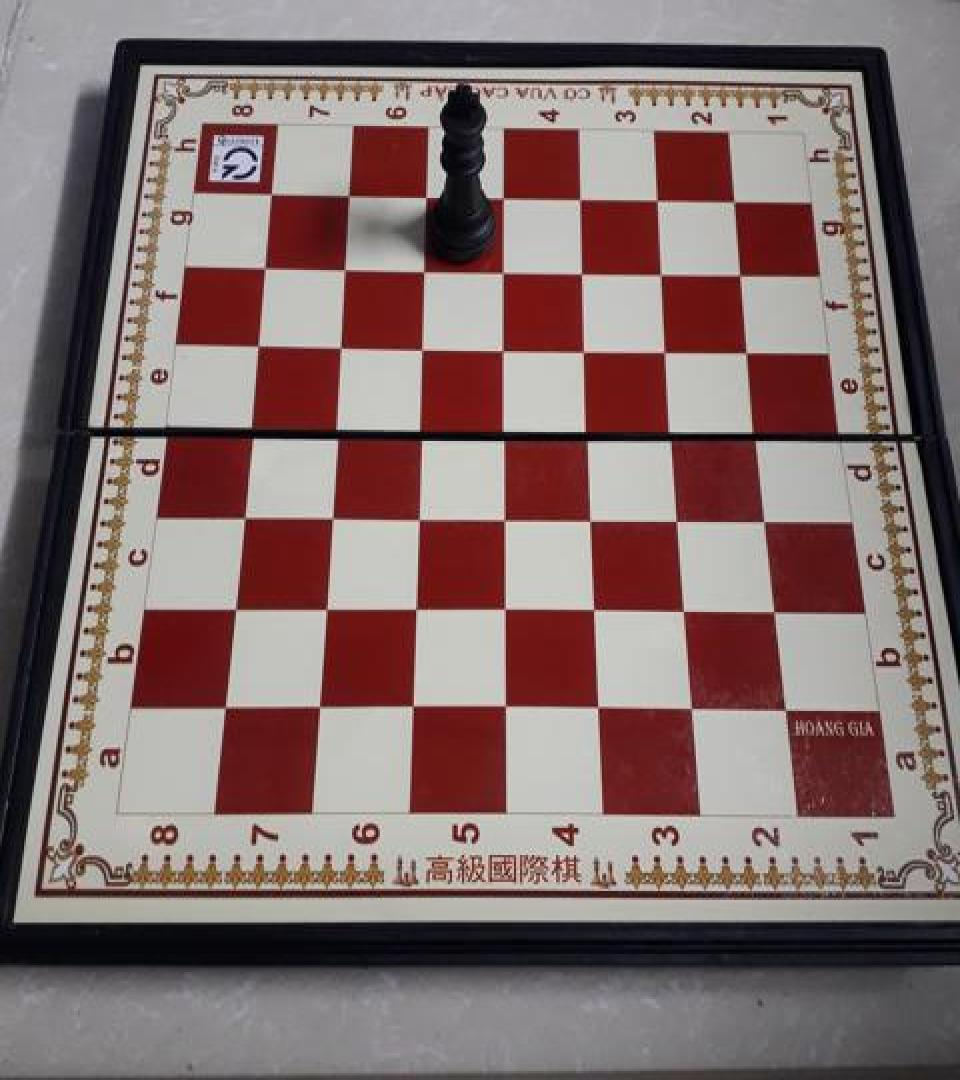xcorner: (209, 688, 241, 725), (305, 688, 337, 725), (399, 688, 431, 725), (493, 688, 525, 725), (586, 688, 618, 725), (678, 688, 710, 725), (770, 688, 802, 725), (219, 588, 251, 625), (311, 588, 343, 625), (402, 590, 434, 626), (492, 590, 524, 626), (582, 590, 614, 626), (672, 590, 704, 626), (761, 590, 793, 626), (227, 495, 259, 531), (316, 496, 348, 532), (404, 496, 436, 532), (492, 497, 524, 533), (579, 498, 611, 534), (665, 498, 697, 534), (752, 500, 784, 536), (236, 407, 268, 443), (321, 408, 353, 444), (407, 410, 439, 446), (491, 410, 523, 446), (576, 412, 608, 448), (660, 412, 692, 448), (743, 413, 775, 449), (243, 326, 275, 362), (326, 328, 358, 364), (491, 330, 523, 366), (573, 331, 605, 367), (654, 332, 686, 368), (735, 333, 767, 369), (250, 248, 282, 284), (331, 250, 363, 286), (411, 252, 443, 288), (491, 253, 523, 289), (570, 254, 602, 290), (649, 256, 681, 292), (727, 256, 759, 292), (257, 176, 289, 212), (335, 178, 367, 214), (413, 179, 445, 215), (490, 181, 522, 217), (567, 182, 599, 218), (644, 184, 676, 220), (720, 184, 752, 220), (409, 329, 441, 364)
